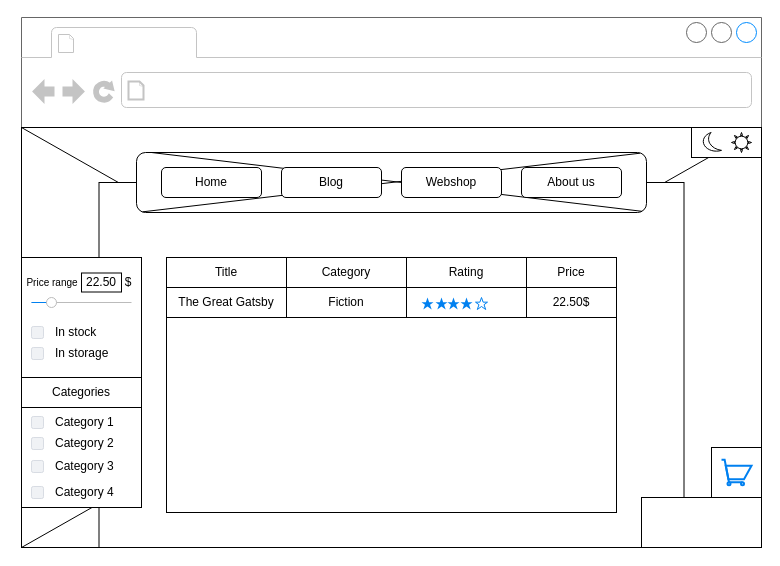
Image size: 780x566. Some labels were removed from this diagram. The shapes that lost their labels are listed below. From the top down, each one's centre as x and y in pixels, then its label:
At point (136, 42): "Bookstore".
At point (276, 90): "https://www.example.com".
At point (701, 522): "Buy".
